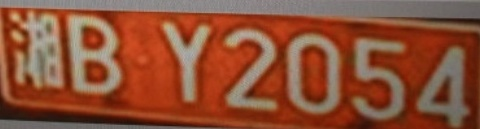B: (67, 14, 122, 94)
